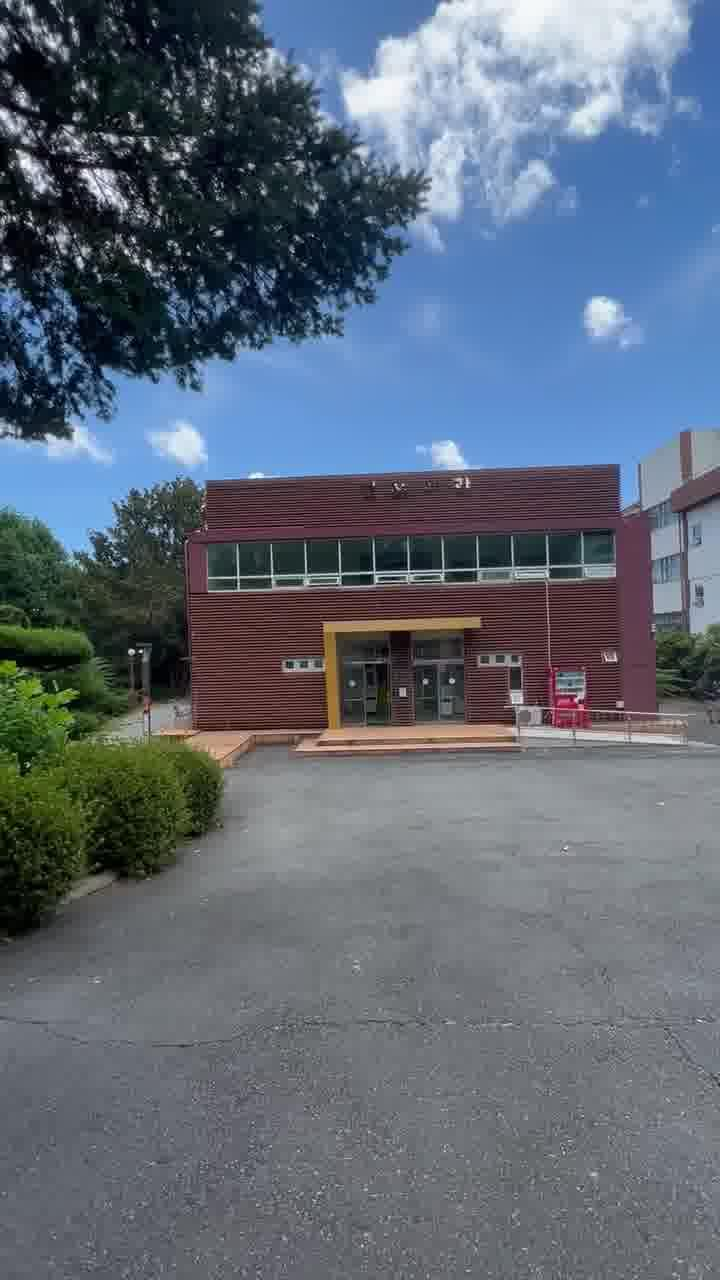building: (186, 468, 672, 750)
